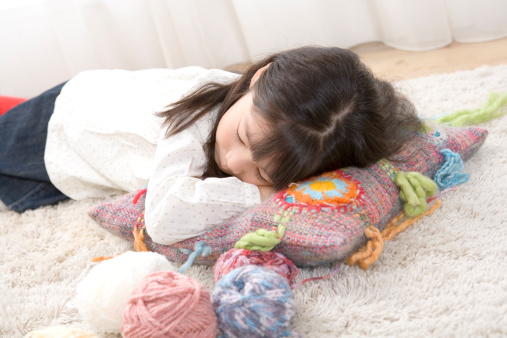deitado: (16, 38, 429, 229)
